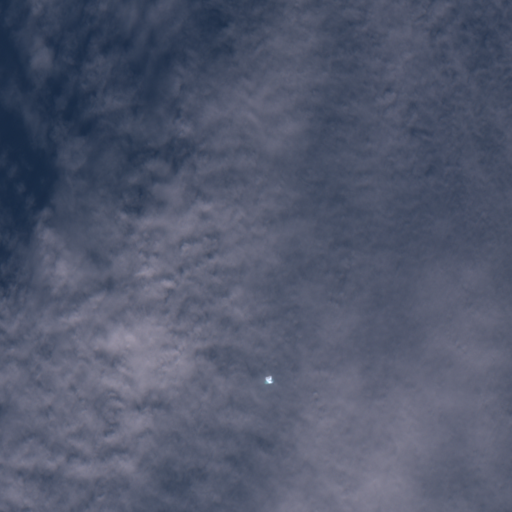Iceberg: (265, 376, 272, 383)
